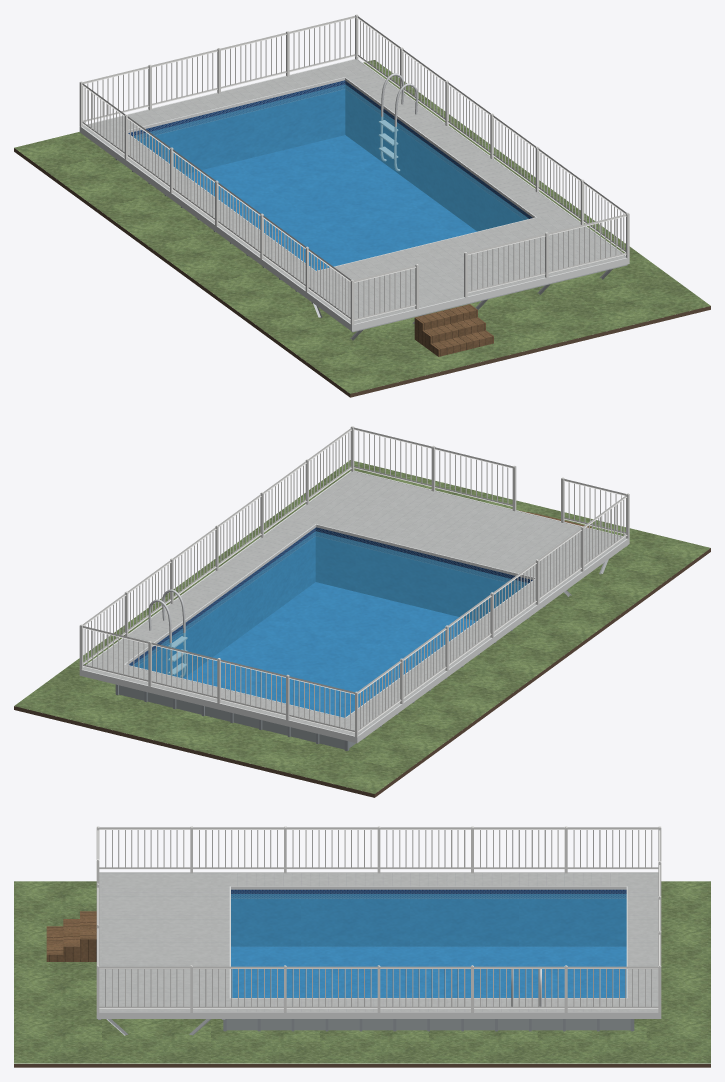
Rendered from kayak-pool-16x24-gray-end-rec-fence.a4c6ddb1cb.glb.
3 views of the same model, one above another, from view 1: azimuth 30°, elevation 25°; view 2: azimuth 150°, elevation 25°; view 3: azimuth 270°, elevation 25° (orthographic). The views are drawn at different scales.
Parts seen in each view (by area): view 1: ground, water, deck, fence, liner_floor, liner_wall, fascia, soil, steps, steel, stud; view 2: ground, water, deck, fence, liner_floor, liner_wall, fascia, soil, wall, steel; view 3: ground, water, deck, liner_wall, fence, liner_floor, fascia, wall, soil, steps, upright.
Part boxes in pixels (box(x1,y1,x2,y2)): ground: box(14, 60, 710, 393); water: box(132, 84, 528, 270); deck: box(82, 59, 625, 323); fence: box(79, 14, 629, 325); liner_floor: box(185, 135, 476, 270); liner_wall: box(128, 80, 532, 231); fascia: box(79, 59, 629, 331); soil: box(14, 148, 710, 397); steps: box(414, 304, 493, 356); steel: box(378, 73, 417, 171); stud: box(291, 264, 627, 340); ground: box(14, 460, 710, 793); water: box(132, 531, 528, 717); deck: box(83, 471, 626, 735); fence: box(79, 426, 629, 736); liner_floor: box(184, 582, 475, 717); liner_wall: box(129, 527, 532, 678); fascia: box(79, 470, 629, 743); soil: box(14, 548, 710, 797); wall: box(119, 685, 355, 749); steel: box(148, 589, 187, 677); ground: box(14, 881, 710, 1063); water: box(231, 894, 626, 997); deck: box(99, 873, 658, 1011); liner_wall: box(231, 889, 626, 946); fence: box(96, 826, 661, 1012); liner_floor: box(231, 946, 626, 997); fascia: box(96, 872, 661, 1018); wall: box(226, 1019, 630, 1030); soil: box(14, 1064, 710, 1067); steps: box(46, 911, 96, 961); upright: box(223, 1019, 634, 1031).
Bounding box in the file's own units: 7.92 × 2.15 × 12.79.
13 materials, 5 textured.
